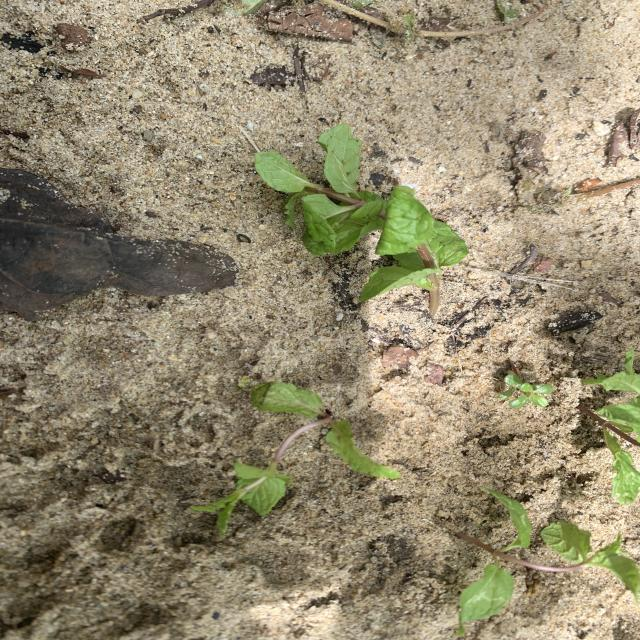crop: (255, 125, 468, 316), (190, 382, 400, 535), (454, 489, 640, 636), (578, 350, 640, 504)
weed: (499, 364, 553, 408)
